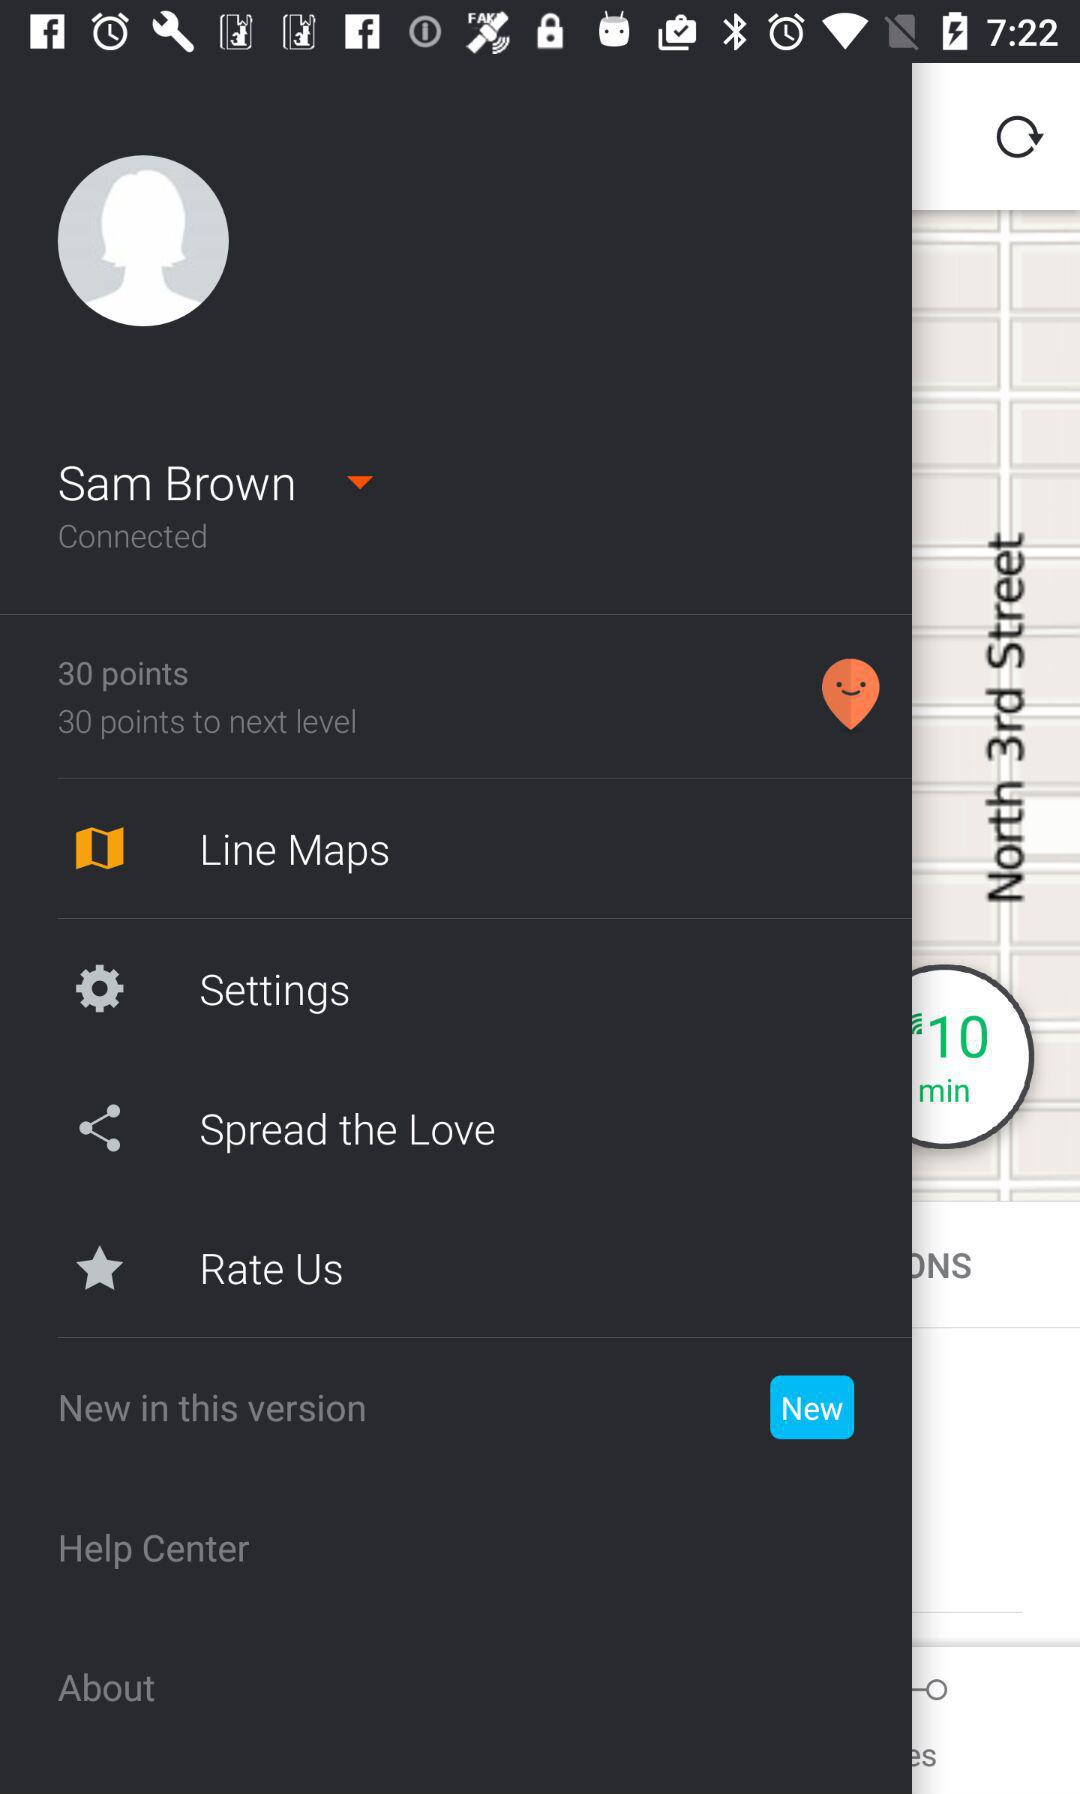Drawer: (1, 64, 912, 1794)
Icon: (58, 155, 231, 327), (821, 657, 881, 734), (76, 964, 126, 1014), (76, 1244, 126, 1292), (76, 827, 126, 871), (79, 1103, 122, 1155), (995, 115, 1044, 159), (346, 472, 374, 491)
Text: (200, 1112, 496, 1156), (58, 707, 357, 742), (59, 464, 297, 504), (60, 1393, 366, 1424), (202, 833, 389, 876), (60, 1533, 252, 1571), (201, 973, 350, 1016), (202, 1252, 345, 1287), (59, 522, 209, 552), (56, 660, 190, 693), (58, 1671, 158, 1704)
TextButton: (770, 1374, 855, 1440)
UpperTaskBar: (1, 1, 1080, 64)
